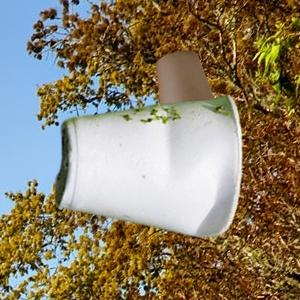cup: (53, 95, 244, 242)
